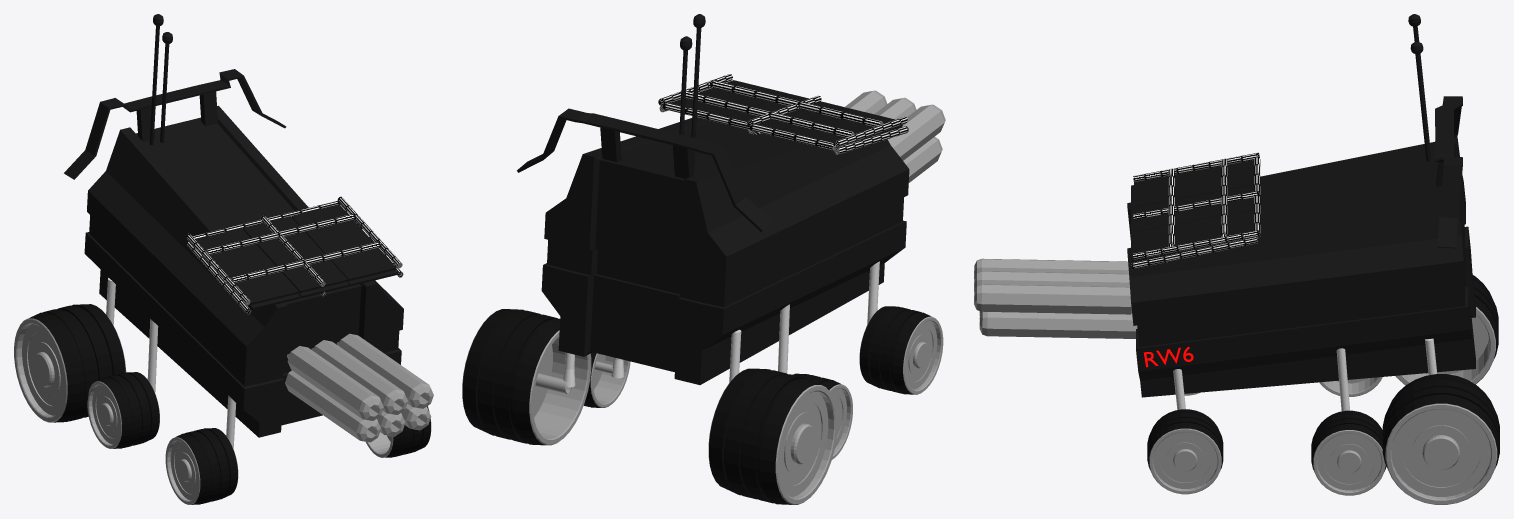
The model's file is rover_warrior_6.glb.
3 views of the same model, side by side, from view 1: azimuth 30°, elevation 25°; view 2: azimuth 150°, elevation 25°; view 3: azimuth 270°, elevation 25° (orthographic). The views are drawn at different scales.
Visible parts, largest first — view 1: Rover_Warrior_6, Cylinder.217, Cube.104, Cube.057, Cube.055, Cube.056, Cube.062, Cylinder.209, Cylinder.205, Cube.063, Cylinder.218, Cube.064 (+20 smaller); view 2: Rover_Warrior_6, Cylinder.217, Cylinder.213, Cube.104, Cylinder.205, Cylinder.212, Cylinder.218, Cylinder.216, Cube.062, Cube.057, Cube.055, Cylinder.233 (+18 smaller); view 3: Rover_Warrior_6, Cylinder.214, Cube.063, Cube.058, Cylinder.213, Cube.104, Cube.055, Cylinder.202, Cylinder.198, Cube.057, Cylinder.212, Cube.056 (+17 smaller).
Boxes of the visible parts, x1,y1,x2,y2 form: Rover_Warrior_6: (84, 105, 403, 437); Cylinder.217: (29, 304, 125, 422); Cube.104: (64, 69, 286, 179); Cube.057: (291, 204, 396, 281); Cube.055: (195, 228, 298, 304); Cube.056: (243, 216, 347, 292); Cube.062: (287, 346, 383, 420); Cylinder.209: (97, 372, 159, 448); Cylinder.205: (175, 428, 237, 504); Cube.063: (336, 333, 433, 408); Cylinder.218: (22, 324, 64, 415); Cube.064: (311, 340, 407, 414); Rover_Warrior_6: (541, 117, 909, 384); Cylinder.217: (709, 368, 820, 504); Cylinder.213: (462, 309, 559, 445); Cube.104: (517, 108, 772, 231); Cylinder.205: (859, 306, 931, 394); Cylinder.212: (462, 317, 591, 445); Cylinder.218: (779, 391, 828, 496); Cylinder.216: (708, 376, 837, 504); Cube.062: (887, 104, 945, 160); Cube.057: (665, 80, 788, 118); Cube.055: (779, 107, 895, 145); Cylinder.233: (710, 80, 883, 126); Rover_Warrior_6: (1127, 137, 1475, 397); Cylinder.214: (1391, 409, 1490, 496); Cube.063: (974, 284, 1131, 314); Cube.058: (979, 311, 1137, 338); Cylinder.213: (1382, 374, 1499, 468); Cube.104: (1435, 96, 1462, 248); Cube.055: (1134, 160, 1254, 207); Cylinder.202: (1317, 433, 1381, 490); Cylinder.198: (1153, 432, 1217, 488); Cube.057: (1134, 209, 1254, 253); Cylinder.212: (1385, 403, 1497, 504); Cube.056: (1134, 185, 1254, 231).
Size of the model in its own units: 2.68 by 3.65 by 4.26.
Materials: 5 (1 with a texture image).
